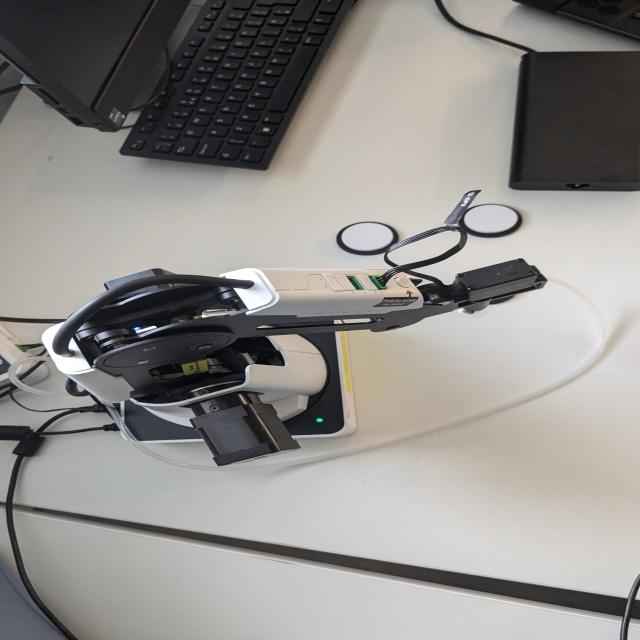Robot-end-effector-HF8z: (447, 256, 550, 320)
